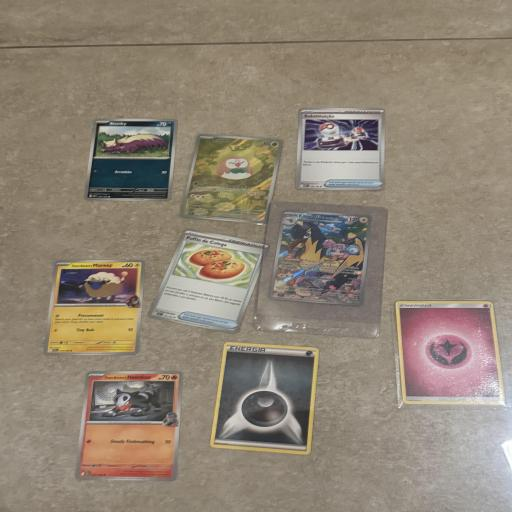card: (147, 223, 271, 337), (395, 293, 506, 413), (210, 340, 319, 455), (75, 370, 183, 481), (269, 208, 372, 307), (43, 259, 145, 356), (179, 131, 284, 225), (82, 117, 178, 201), (295, 106, 387, 191)
